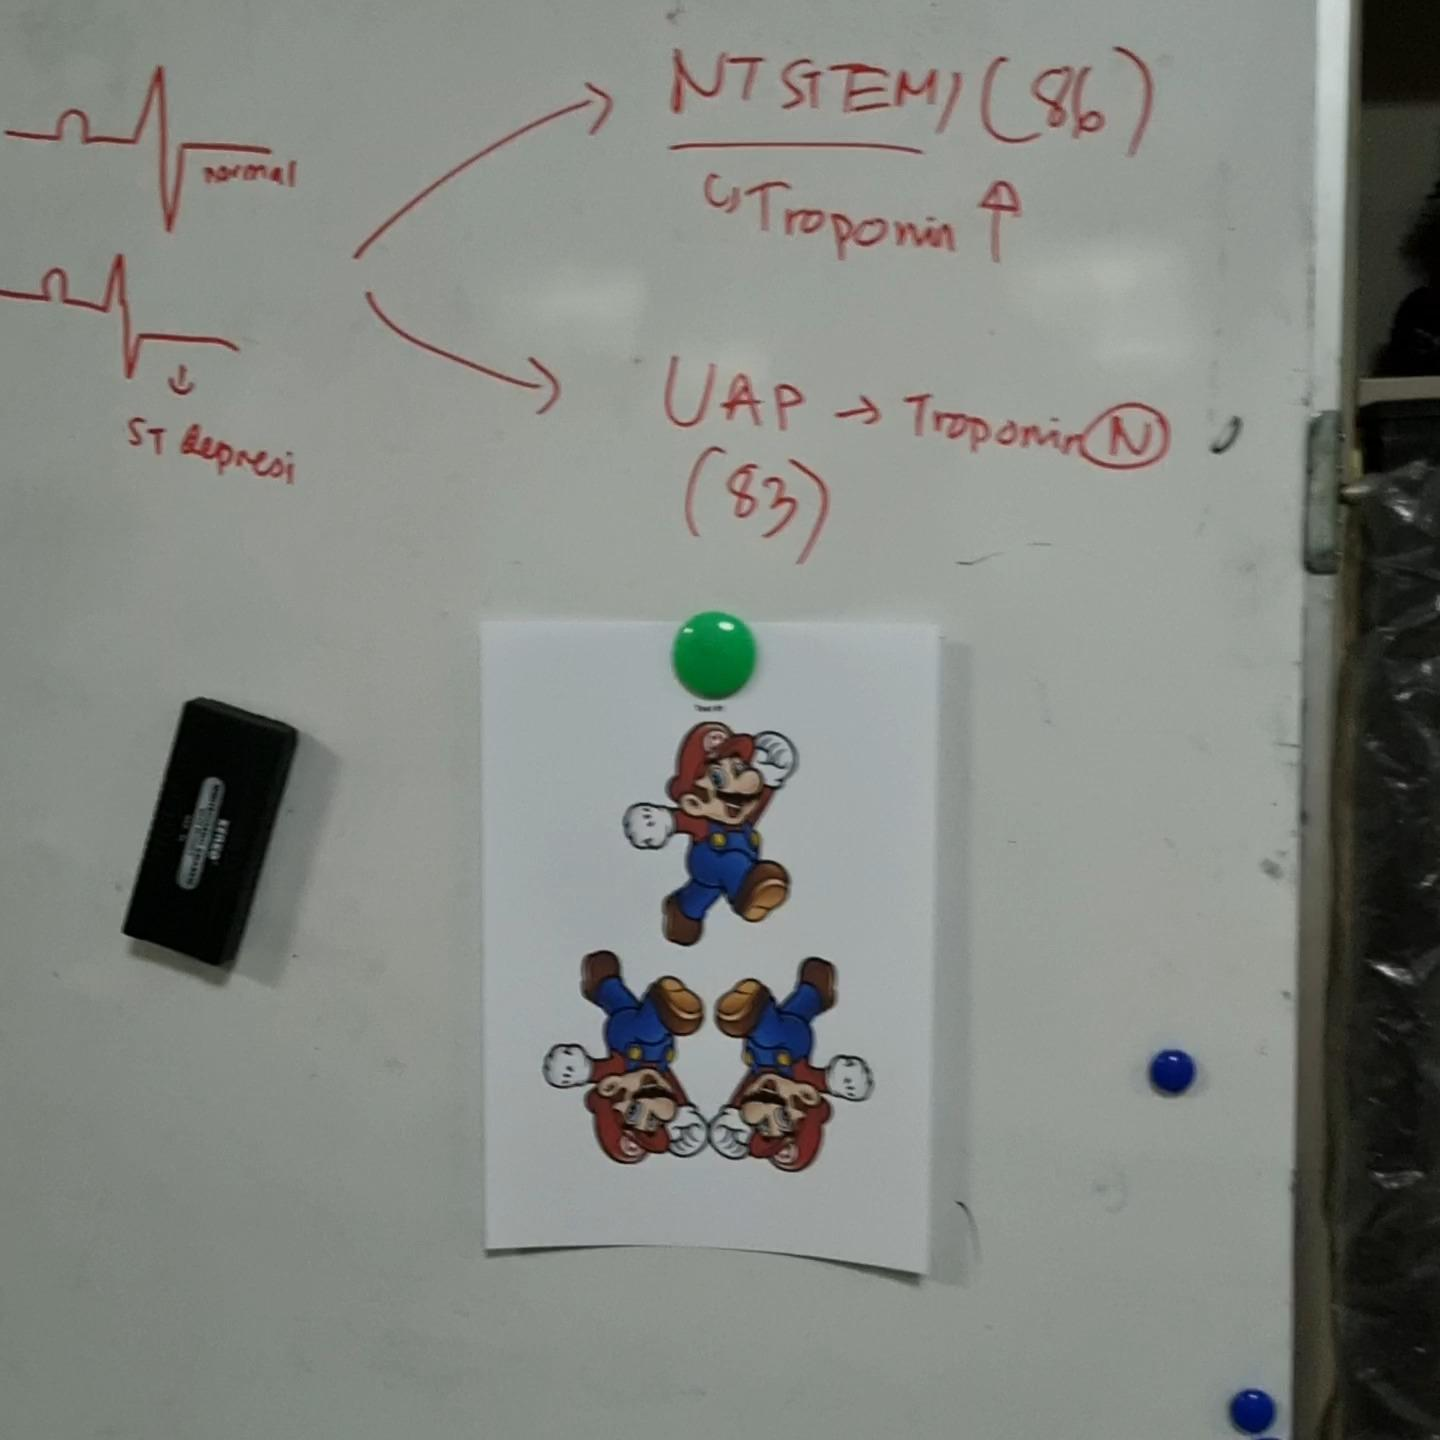mario: (612, 712, 807, 952), (691, 952, 886, 1187), (526, 942, 704, 1189)
